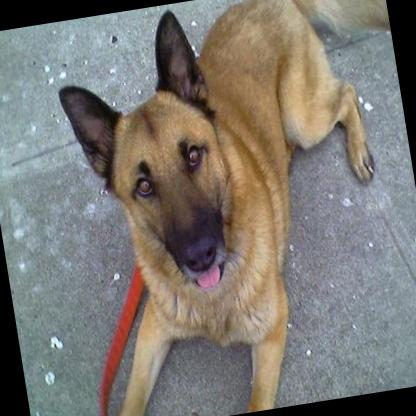malinois: (44, 0, 416, 416)
